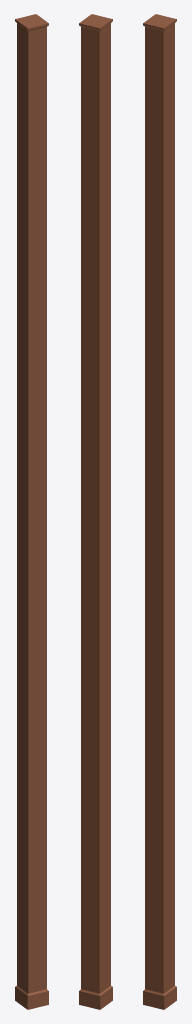
The model's file is SM_Beam.FBX.
The picture shows the model from 3 angles, left to right: view 1: azimuth 30°, elevation 25°; view 2: azimuth 150°, elevation 25°; view 3: azimuth 330°, elevation 25°; orthographic projection.
Visible parts, largest first — view 1: SM_Beam; view 2: SM_Beam; view 3: SM_Beam.
Boxes of the visible parts, x1=… form: SM_Beam: x1=15, y1=14, x2=48, y2=1009; SM_Beam: x1=79, y1=14, x2=112, y2=1009; SM_Beam: x1=143, y1=14, x2=176, y2=1009.
Bounding box in the file's own units: 22.71 × 1009 × 23.63.
